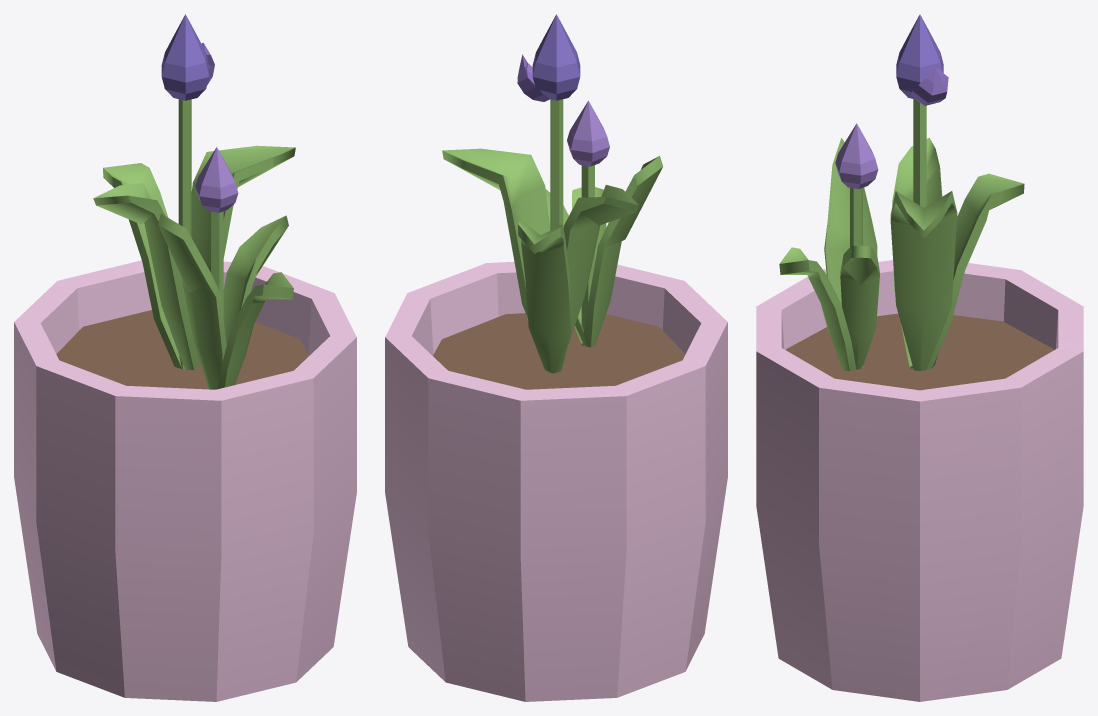
The model's file is plant05_05.gltf.
3 views of the same model, side by side, from view 1: azimuth 30°, elevation 25°; view 2: azimuth 150°, elevation 25°; view 3: azimuth 270°, elevation 25° (orthographic).
Visible parts, largest first — view 1: plant05_stage01:pot, plant05_stage01:dirt, plant05_stage04:plant05_stage03:plant05_stage02:pCube3, pCube1, plant05_stage04:plant05_stage03:plant05_stage02:pCube1, pCube3, plant05_stage04:plant05_stage03:plant05_stage02:pCube2, plant05_stage04:plant05_stage03:pSphere1, pCube2, plant05_stage04:plant05_stage03:plant05_stage02:pCylinder1, pSphere1, pCylinder1; view 2: plant05_stage01:pot, plant05_stage01:dirt, plant05_stage04:plant05_stage03:plant05_stage02:pCube2, plant05_stage04:plant05_stage03:plant05_stage02:pCube1, plant05_stage04:plant05_stage03:plant05_stage02:pCube3, pCube1, plant05_stage04:plant05_stage03:pSphere1, pSphere1, plant05_stage04:plant05_stage03:plant05_stage02:pCylinder1, pCylinder1, pSphere2; view 3: plant05_stage01:pot, plant05_stage01:dirt, plant05_stage04:plant05_stage03:plant05_stage02:pCube1, pCube3, plant05_stage04:plant05_stage03:plant05_stage02:pCube2, pCube1, pCube2, plant05_stage04:plant05_stage03:pSphere1, pSphere1, plant05_stage04:plant05_stage03:plant05_stage02:pCube3, plant05_stage04:plant05_stage03:plant05_stage02:pCylinder1, pSphere2 (+1 smaller).
Part boxes in pixels (x1,y1,x2,y2): plant05_stage01:pot: (14, 260, 356, 701); plant05_stage01:dirt: (56, 310, 308, 389); plant05_stage04:plant05_stage03:plant05_stage02:pCube3: (93, 183, 199, 370); pCube1: (158, 213, 226, 389); plant05_stage04:plant05_stage03:plant05_stage02:pCube1: (191, 145, 295, 359); pCube3: (223, 215, 288, 345); plant05_stage04:plant05_stage03:plant05_stage02:pCube2: (103, 163, 181, 368); plant05_stage04:plant05_stage03:pSphere1: (161, 14, 209, 100); pCube2: (217, 272, 293, 388); plant05_stage04:plant05_stage03:plant05_stage02:pCylinder1: (178, 99, 191, 369); pSphere1: (195, 147, 238, 212); pCylinder1: (211, 211, 223, 316); plant05_stage01:pot: (385, 262, 727, 701); plant05_stage01:dirt: (433, 313, 685, 389); plant05_stage04:plant05_stage03:plant05_stage02:pCube2: (518, 221, 572, 373); plant05_stage04:plant05_stage03:plant05_stage02:pCube1: (442, 148, 550, 319); plant05_stage04:plant05_stage03:plant05_stage02:pCube3: (563, 185, 638, 346); pCube1: (582, 156, 662, 347); plant05_stage04:plant05_stage03:pSphere1: (532, 14, 580, 100); pSphere1: (567, 100, 609, 166); plant05_stage04:plant05_stage03:plant05_stage02:pCylinder1: (550, 99, 563, 367); pCylinder1: (581, 165, 594, 346); pSphere2: (517, 54, 549, 101); plant05_stage01:pot: (756, 260, 1083, 701); plant05_stage01:dirt: (786, 313, 1053, 390); plant05_stage04:plant05_stage03:plant05_stage02:pCube1: (890, 191, 957, 370); pCube3: (840, 245, 879, 369); plant05_stage04:plant05_stage03:plant05_stage02:pCube2: (927, 173, 1024, 369); pCube1: (824, 138, 877, 367); pCube2: (779, 247, 856, 371); plant05_stage04:plant05_stage03:pSphere1: (896, 14, 943, 99); pSphere1: (835, 123, 878, 188); plant05_stage04:plant05_stage03:plant05_stage02:pCube3: (892, 137, 942, 369); plant05_stage04:plant05_stage03:plant05_stage02:pCylinder1: (913, 99, 926, 207); pSphere2: (911, 67, 948, 105).
Bounding box in the file's own units: 0.0179 × 0.0358 × 0.017.
1 material, 1 textured.
